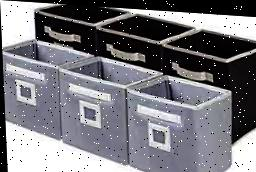cube: (125, 71, 235, 172), (57, 54, 153, 163), (1, 36, 64, 138)
